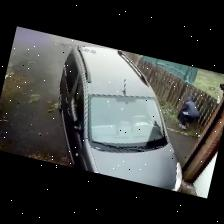person: (178, 95, 199, 129)
